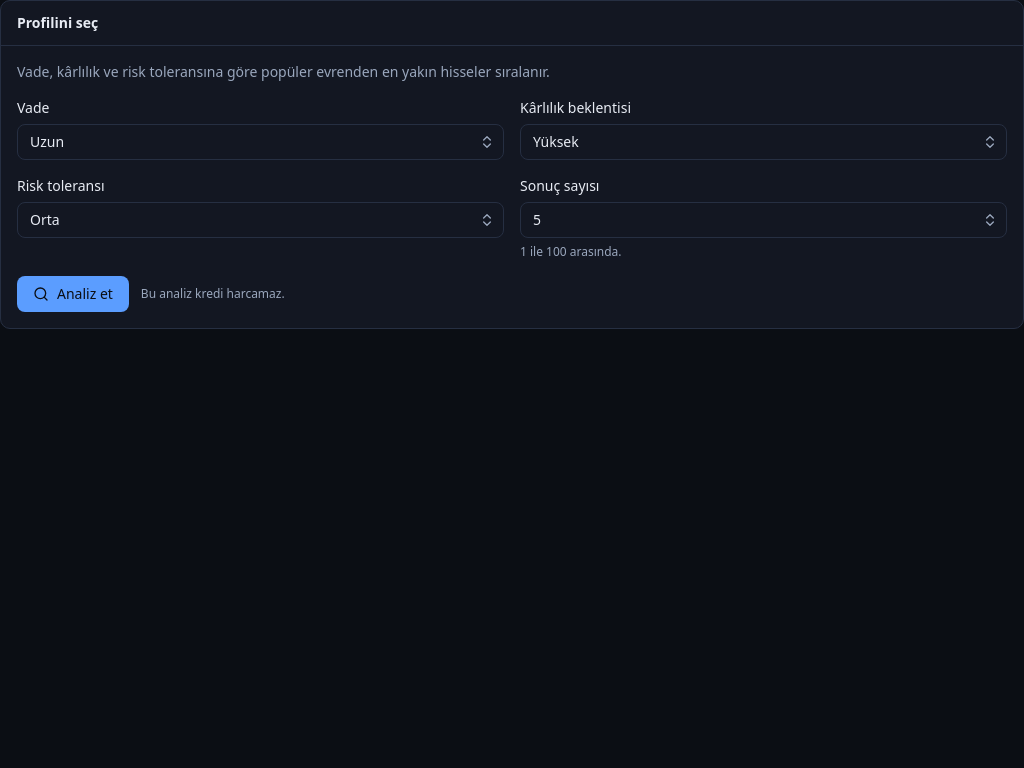
AdvisorFitForm — bakım modu › istek 503 dönerse bakım durumunu gösterir
Step 1. Click the button "Analiz et" → (73, 294), box [17,276,129,312]
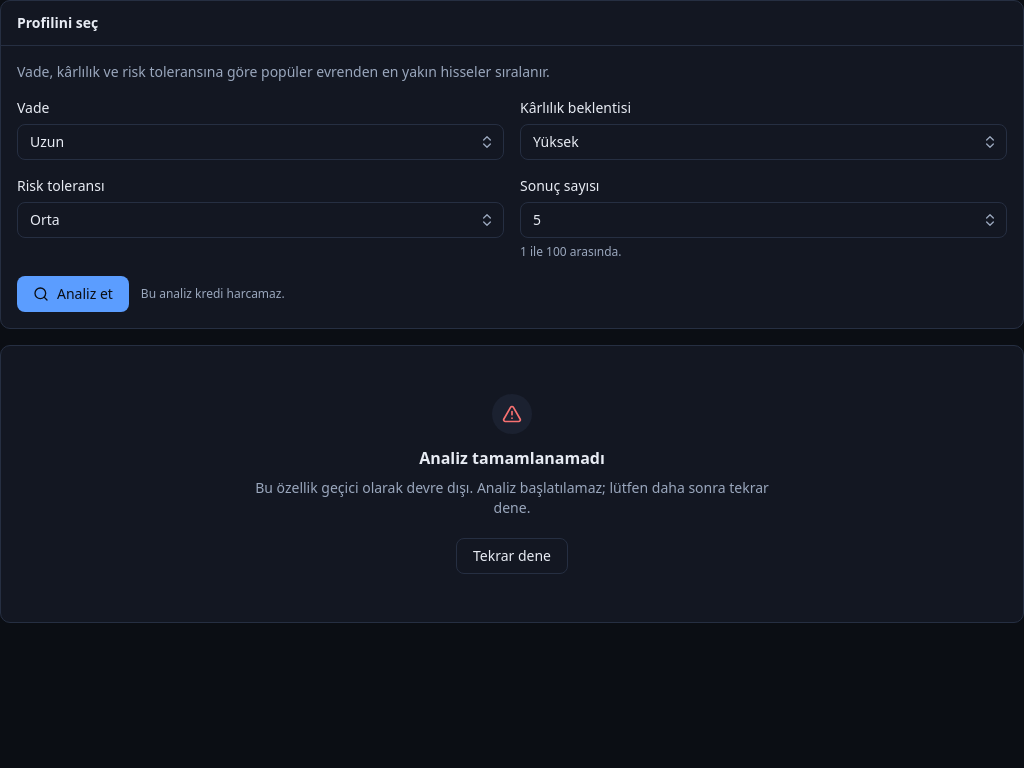
Expected: the text "Analiz tamamlanamadı" is shown, [419,446,605,470]
Expected: the text "geçici olarak devre dışı" is shown, [255,478,769,517]
